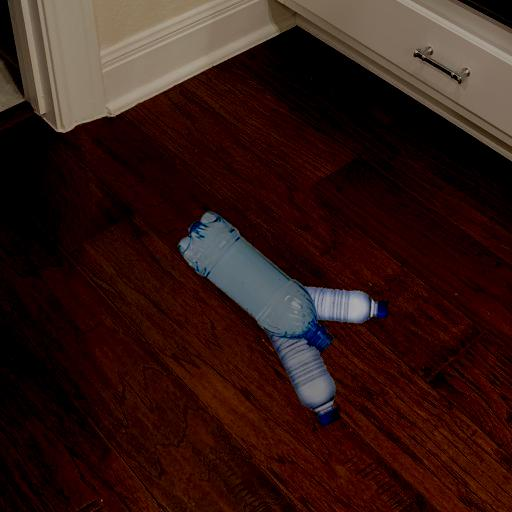bottle: (181, 198, 334, 355), (267, 322, 346, 433), (302, 278, 394, 330)
